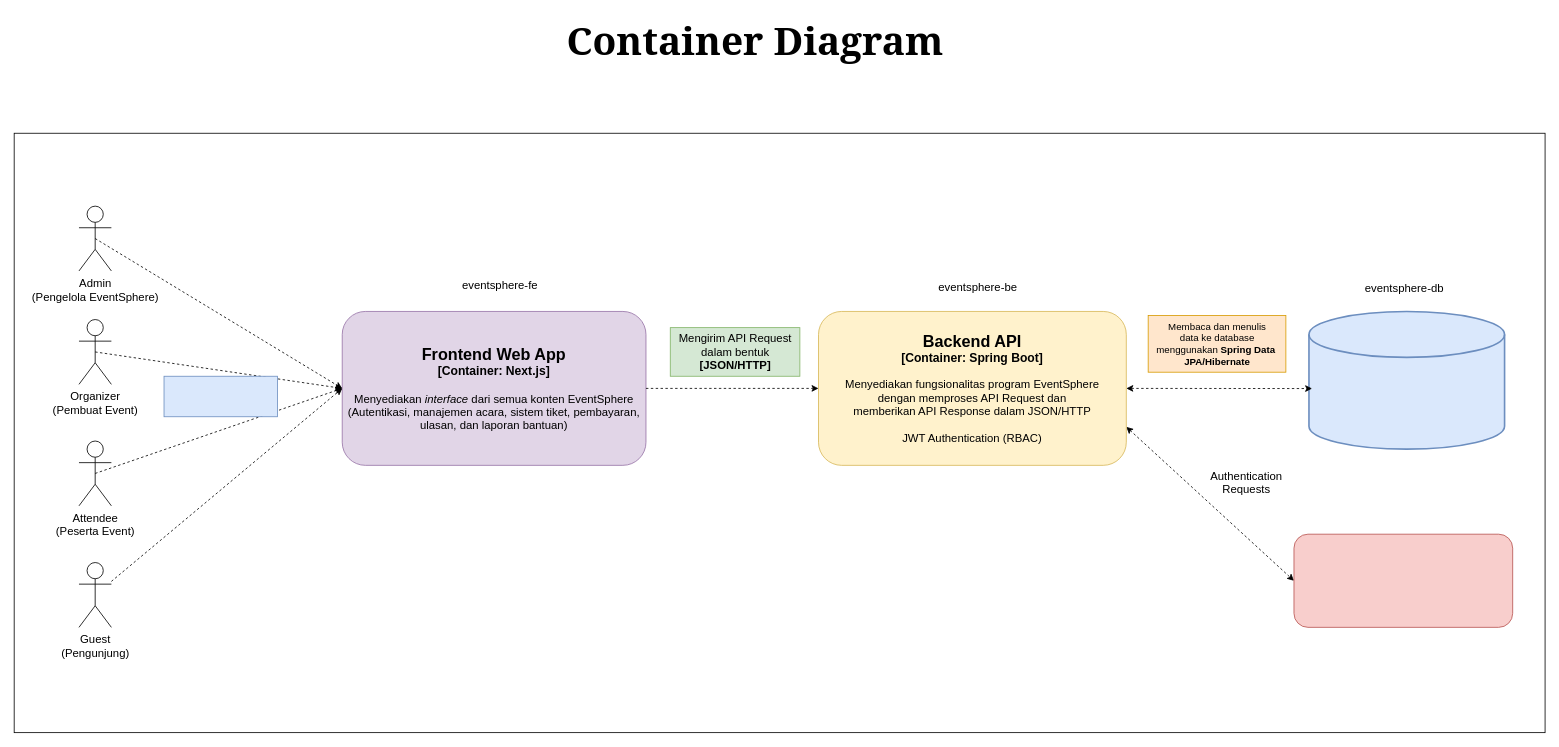
The diagram is 1559 pixels wide and 747 high, and some of its shapes have lost their labels. The box of each missing label's shape, as (x1, y1, x2, y2) in pixels:
Authentication & Authorization Service JWT-based Manajemen role: (1293, 533, 1513, 627)
Database [Container: PostgreSQL] Menyimpan semua data aplikasi: (1308, 310, 1505, 450)
Mengakses melalui [HTTP]: (163, 375, 277, 417)
